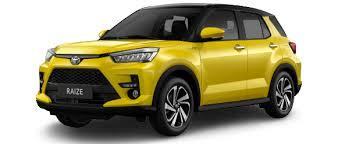toyota: (68, 52, 82, 65)
